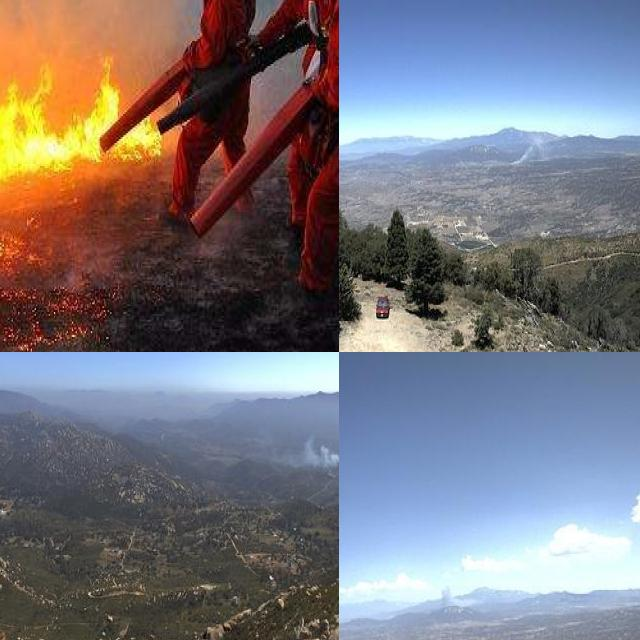fire: (0, 62, 161, 192)
smoke: (269, 430, 339, 472), (433, 577, 483, 619), (501, 129, 550, 166)
